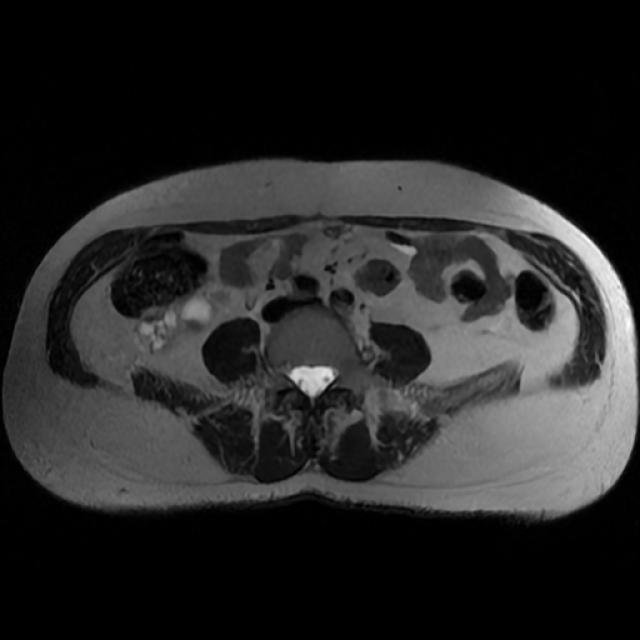sol: (136, 292, 214, 357)
